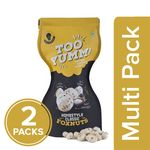tooyumm: (53, 41, 92, 65)
